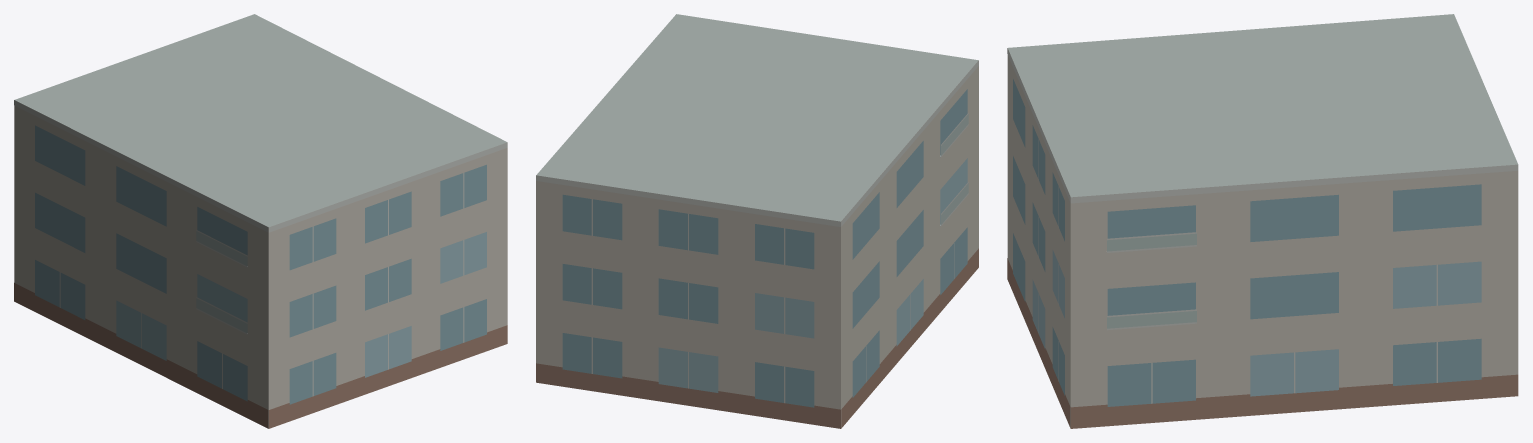
Rendered from survey-upis-32904549.glb.
3 views of the same model, side by side, from view 1: azimuth 30°, elevation 25°; view 2: azimuth 150°, elevation 25°; view 3: azimuth 270°, elevation 25° (orthographic). The views are drawn at different scales.
Parts seen in each view (by area): view 1: survey-upis-32904549.tmp; view 2: survey-upis-32904549.tmp; view 3: survey-upis-32904549.tmp.
Boxes of the visible parts, x1,y1,x2,y2 form: survey-upis-32904549.tmp: (14,14,507,428); survey-upis-32904549.tmp: (536,14,978,428); survey-upis-32904549.tmp: (1007,14,1518,428).
Bounding box in the file's own units: 15.54 × 9.15 × 18.3.
